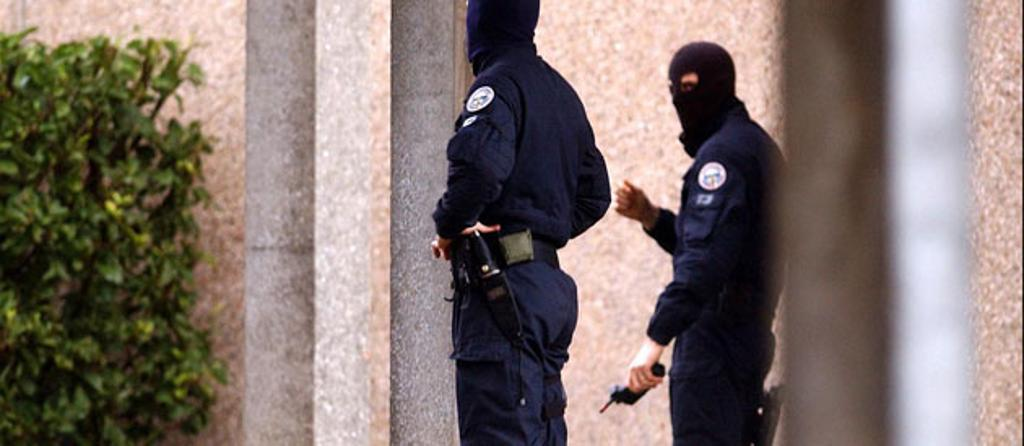face: (669, 66, 716, 123)
